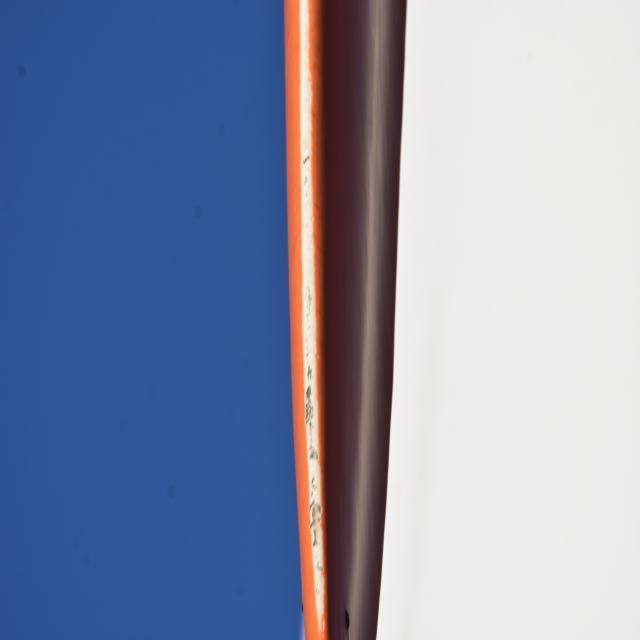EROSION: (301, 360, 333, 565)
